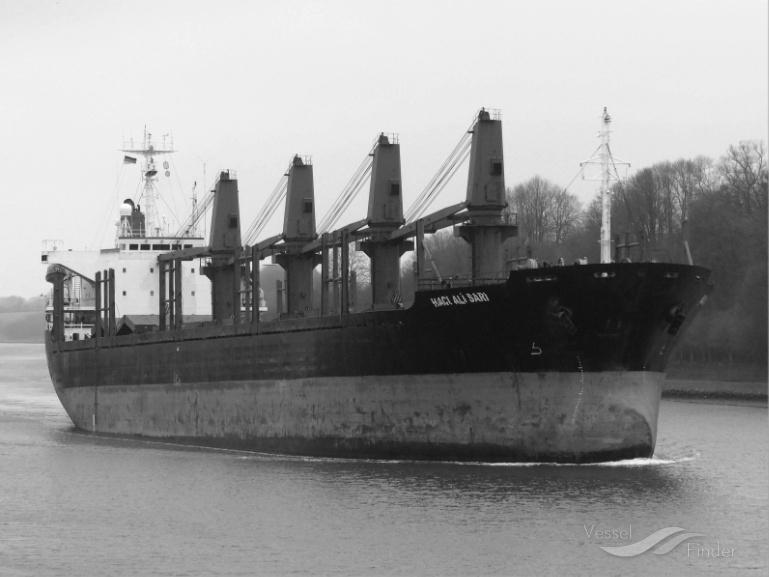OCR: (423, 292, 494, 316)
